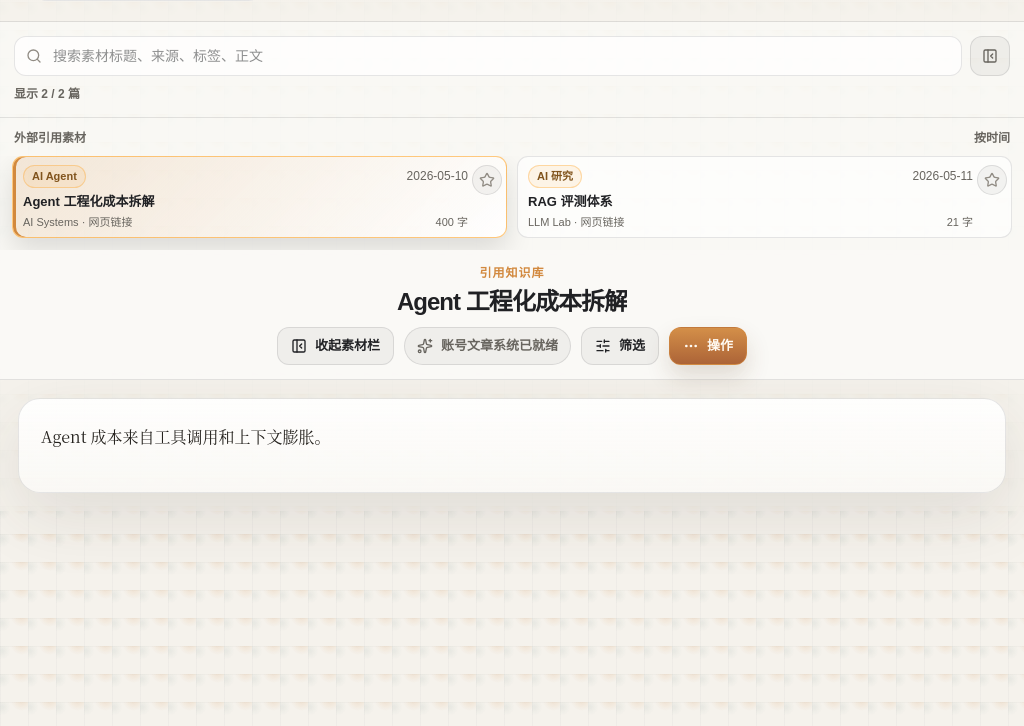
Test case: Workbench › collapses and restores the article rail as part of the page layout
(page scrolled)
Expected: the text "显示 2 / 2 篇" is shown, [14, 85, 80, 103]
Step 1. Click the button "收起素材栏" → x=336, y=346, box [277, 327, 394, 365]
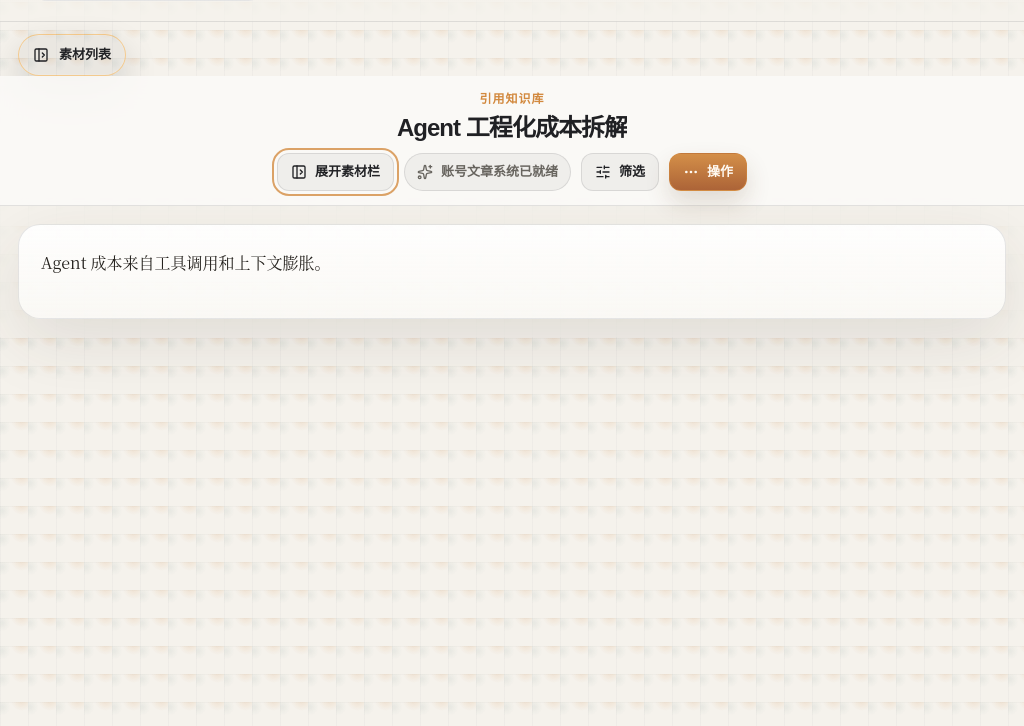
Expected: the text "显示 2 / 2 篇" is gone
Expected: the button "展开素材栏" is shown, [277, 153, 394, 191]
Expected: the button with aria-label "展开素材列表" is shown
Step 2. Click the button with aria-label "展开素材列表" → x=72, y=55, box [18, 34, 126, 76]
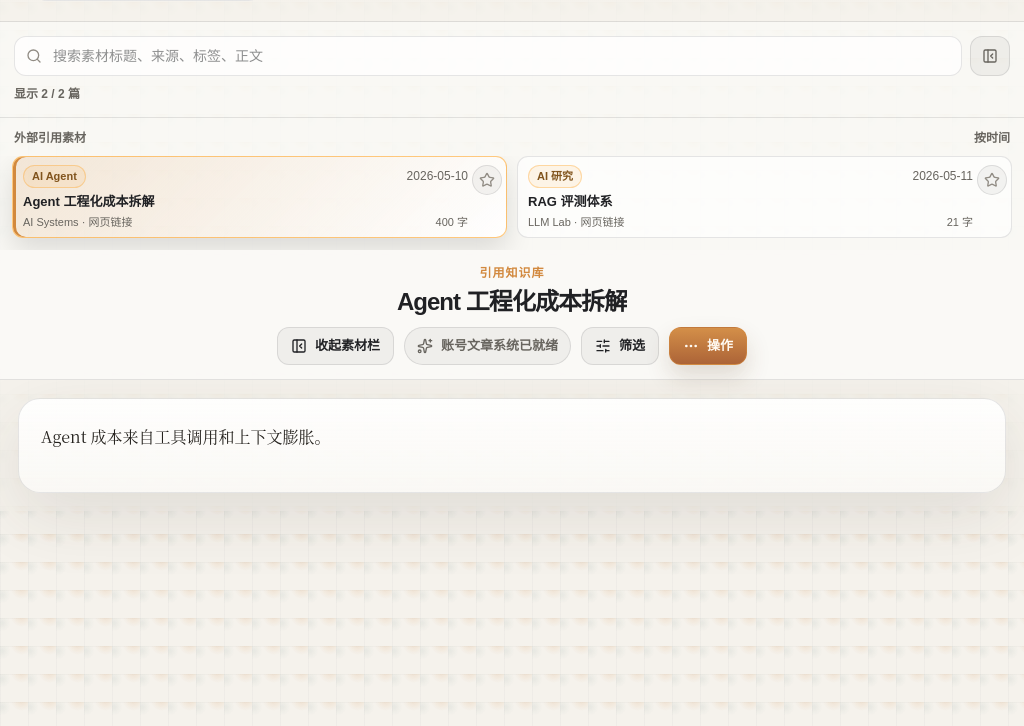
Expected: the button "素材列表" is gone
Expected: the field with placeholder "搜索素材标题、来源、标签、正文" is shown, [14, 36, 962, 76]
Expected: the text "显示 2 / 2 篇" is shown, [14, 85, 80, 103]
Step 3. Click the button with aria-label "打开引用素材：RAG 评测体系" → x=555, y=176, box [518, 157, 973, 237]
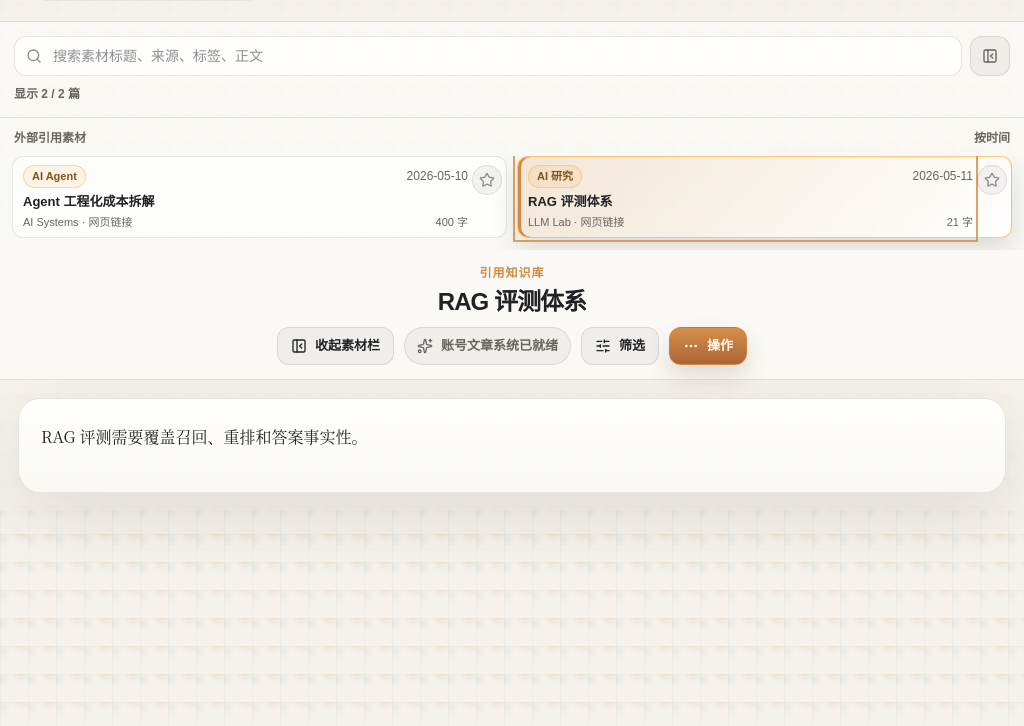
Expected: the heading "RAG 评测体系" is shown, [438, 288, 586, 317]
